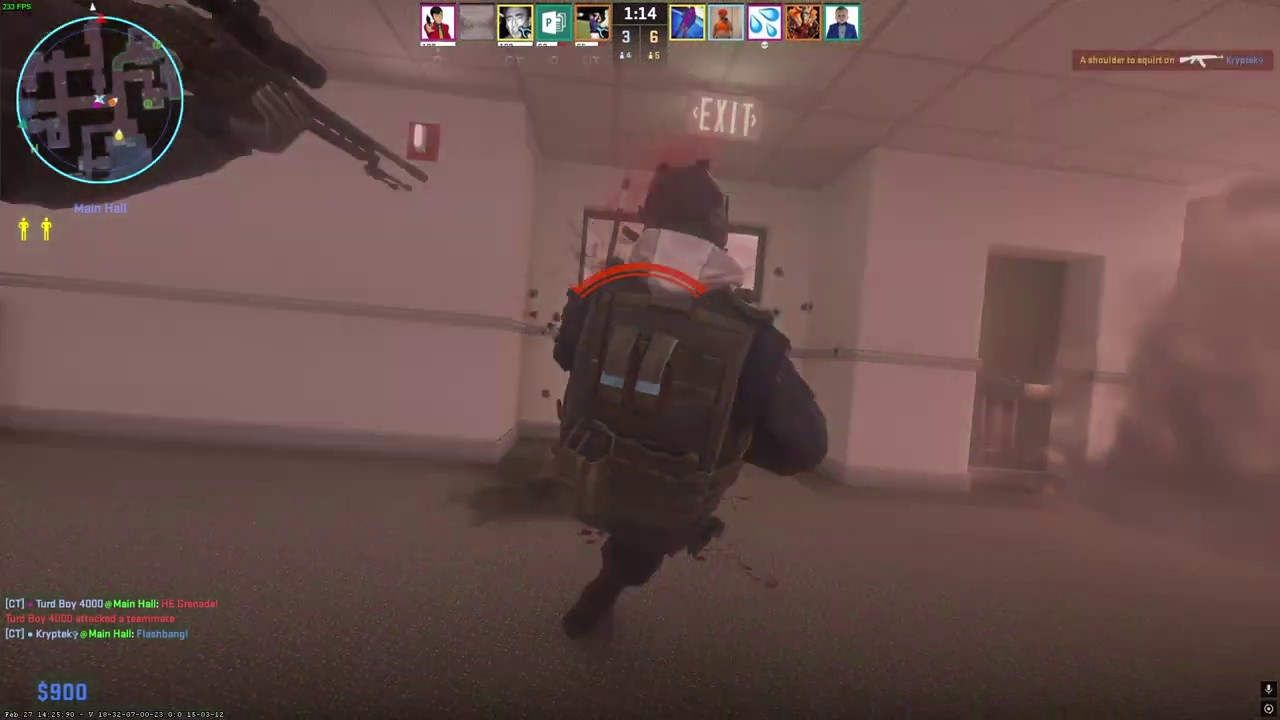CT: (546, 168, 794, 656)
